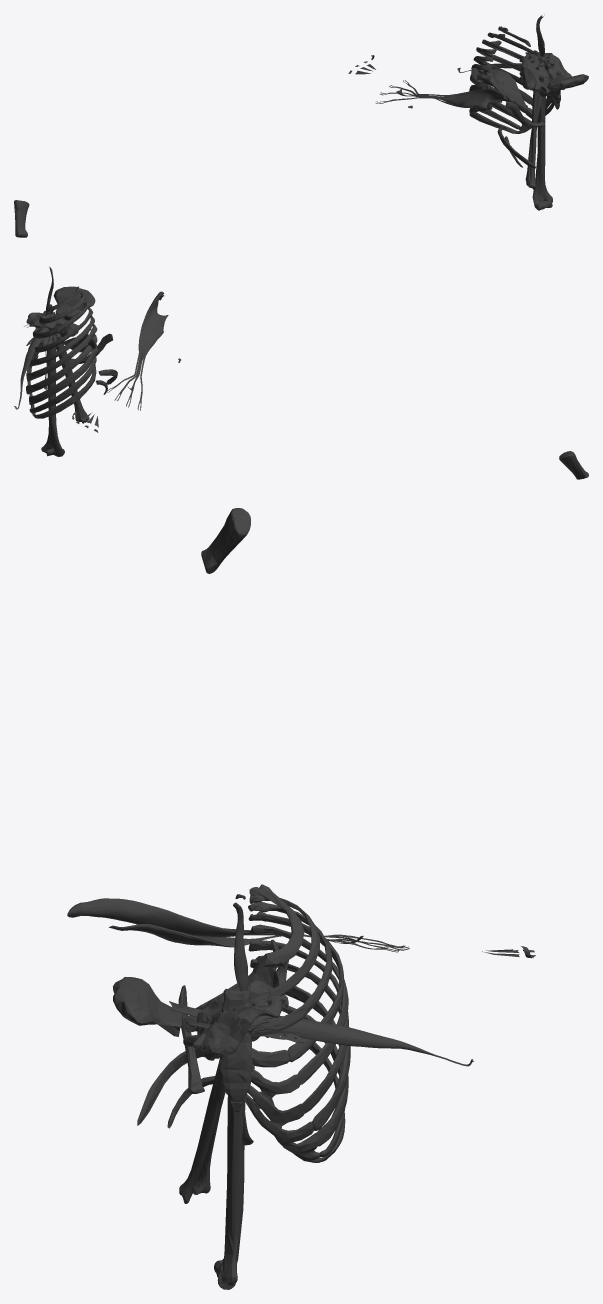
The model's file is sharedassets12.glb.
The picture shows the model from 3 angles, top to bottom: view 1: azimuth 30°, elevation 25°; view 2: azimuth 150°, elevation 25°; view 3: azimuth 270°, elevation 25°; orthographic projection. The views are drawn at different scales.
Parts seen in each view (by area): view 1: 0078_S01-05 Sacrum_male_001242, 0035_Flexor digitorum superficialis, R__10001, 0003_Humerus _arm, brachium_, R__000807, 0038_Scapula, R__000991, 0004_Ulna _forearm, antebrachium_, R__000808, 0011_2nd Middle phalanx _hand_, R__000815, 0047_Tenth rib _10_, R__002282, 0041_Manubrium__001162, 0045_Eighth rib _08_, R__002280, 0039_Clavicle, R__000992, 0050_Fourth rib _04_, R__002276; view 2: 0035_Flexor digitorum superficialis, R__10001, 0003_Humerus _arm, brachium_, R__000807, 0041_Manubrium__001162, 0045_Eighth rib _08_, R__002280, 0053_Seventh rib _07_, R__002279, 0052_Sixth rib _06_, R__002278, 0046_Ninth rib _09_, R__002281, 0047_Tenth rib _10_, R__002282, 0078_S01-05 Sacrum_male_001242, 0051_Fifth rib _05_, R__002277, 0011_2nd Middle phalanx _hand_, R__000815, 0036_Flexor carpi ulnaris, R__1000160 (+3 smaller); view 3: 0078_S01-05 Sacrum_male_001242, 0035_Flexor digitorum superficialis, R__10001, 0003_Humerus _arm, brachium_, R__000807, 0041_Manubrium__001162, 0036_Flexor carpi ulnaris, R__1000160, 0052_Sixth rib _06_, R__002278, 0053_Seventh rib _07_, R__002279, 0042_Body of sternum__001163, 0051_Fifth rib _05_, R__002277, 0050_Fourth rib _04_, R__002276, 0049_Third rib _03_, R__002275, 0011_2nd Middle phalanx _hand_, R__000815 (+6 smaller).
Part boxes in pixels (x1,y1,x2,y2): 0078_S01-05 Sacrum_male_001242: (519,50,571,96); 0035_Flexor digitorum superficialis, R__10001: (375,80,515,108); 0003_Humerus _arm, brachium_, R__000807: (532,96,552,210); 0038_Scapula, R__000991: (471,62,526,108); 0004_Ulna _forearm, antebrachium_, R__000808: (528,62,544,190); 0011_2nd Middle phalanx _hand_, R__000815: (14,200,29,237); 0047_Tenth rib _10_, R__002282: (469,103,524,133); 0041_Manubrium__001162: (547,74,588,91); 0045_Eighth rib _08_, R__002280: (469,84,531,129); 0039_Clavicle, R__000992: (505,101,545,127); 0050_Fourth rib _04_, R__002276: (476,47,521,71); 0035_Flexor digitorum superficialis, R__10001: (106,291,168,410); 0003_Humerus _arm, brachium_, R__000807: (41,346,64,456); 0041_Manubrium__001162: (53,286,95,320); 0045_Eighth rib _08_, R__002280: (29,343,97,405); 0053_Seventh rib _07_, R__002279: (26,334,97,394); 0052_Sixth rib _06_, R__002278: (26,324,97,381); 0046_Ninth rib _09_, R__002281: (29,355,96,413); 0047_Tenth rib _10_, R__002282: (32,364,96,418); 0078_S01-05 Sacrum_male_001242: (26,312,78,336); 0051_Fifth rib _05_, R__002277: (29,315,94,366); 0011_2nd Middle phalanx _hand_, R__000815: (559,451,588,479); 0036_Flexor carpi ulnaris, R__1000160: (14,327,48,409); 0078_S01-05 Sacrum_male_001242: (183,980,288,1060); 0035_Flexor digitorum superficialis, R__10001: (67,898,409,952); 0003_Humerus _arm, brachium_, R__000807: (214,1096,245,1289); 0041_Manubrium__001162: (113,977,182,1036); 0036_Flexor carpi ulnaris, R__1000160: (250,1015,473,1066); 0052_Sixth rib _06_, R__002278: (247,940,348,1125); 0053_Seventh rib _07_, R__002279: (243,959,350,1145); 0042_Body of sternum__001163: (218,989,254,1101); 0051_Fifth rib _05_, R__002277: (249,924,348,1097); 0050_Fourth rib _04_, R__002276: (248,911,344,1067); 0049_Third rib _03_, R__002275: (248,901,332,1035); 0011_2nd Middle phalanx _hand_, R__000815: (201,508,250,573).
Size of the model in its own units: 0.6797 by 0.2249 by 0.2489.
Materials: 1 (1 with a texture image).
